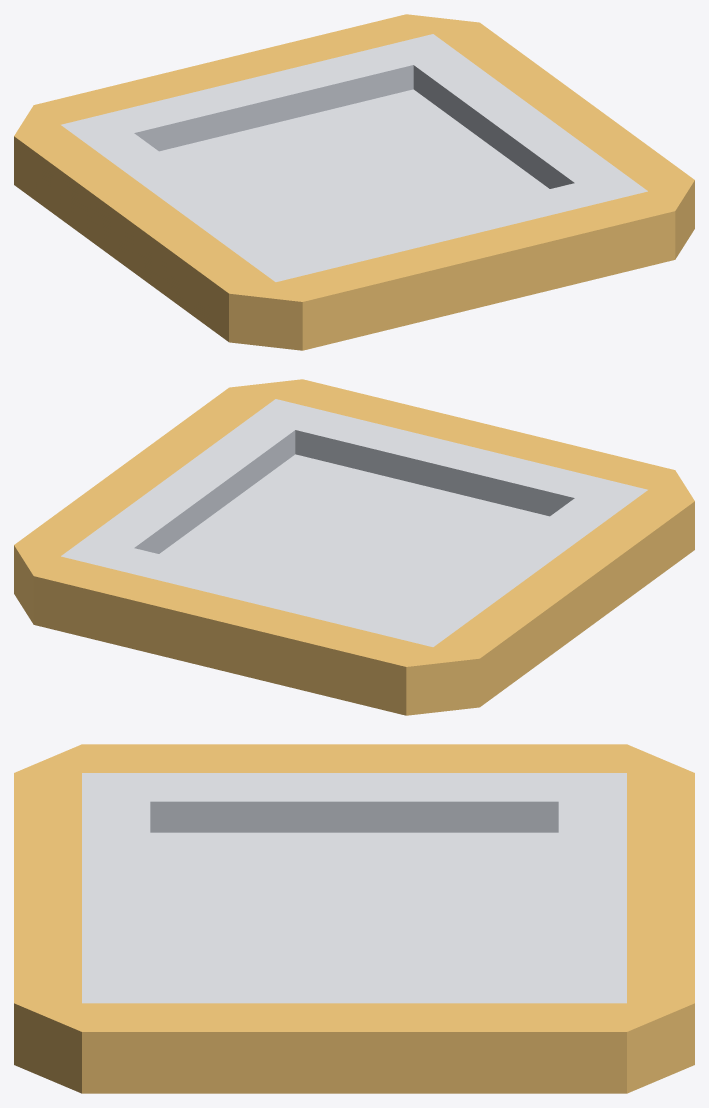
The model's file is platform_small.glb.
3 renders of one model, top to bottom at view 1: azimuth 30°, elevation 25°; view 2: azimuth 150°, elevation 25°; view 3: azimuth 270°, elevation 25°, orthographic. The views are drawn at different scales.
Parts seen in each view (by area): view 1: platform_small; view 2: platform_small; view 3: platform_small.
Part boxes in pixels (left/top/right/bottom): platform_small: left=14, top=14, right=694, bottom=350; platform_small: left=14, top=379, right=694, bottom=715; platform_small: left=14, top=744, right=694, bottom=1093.
Size of the model in its own units: 1.3 by 0.13 by 1.3.
